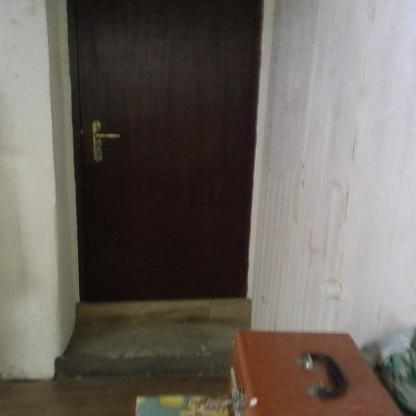door: (68, 0, 250, 296)
hinged: (258, 0, 266, 18), (240, 263, 247, 282)
lever: (90, 130, 122, 140)
